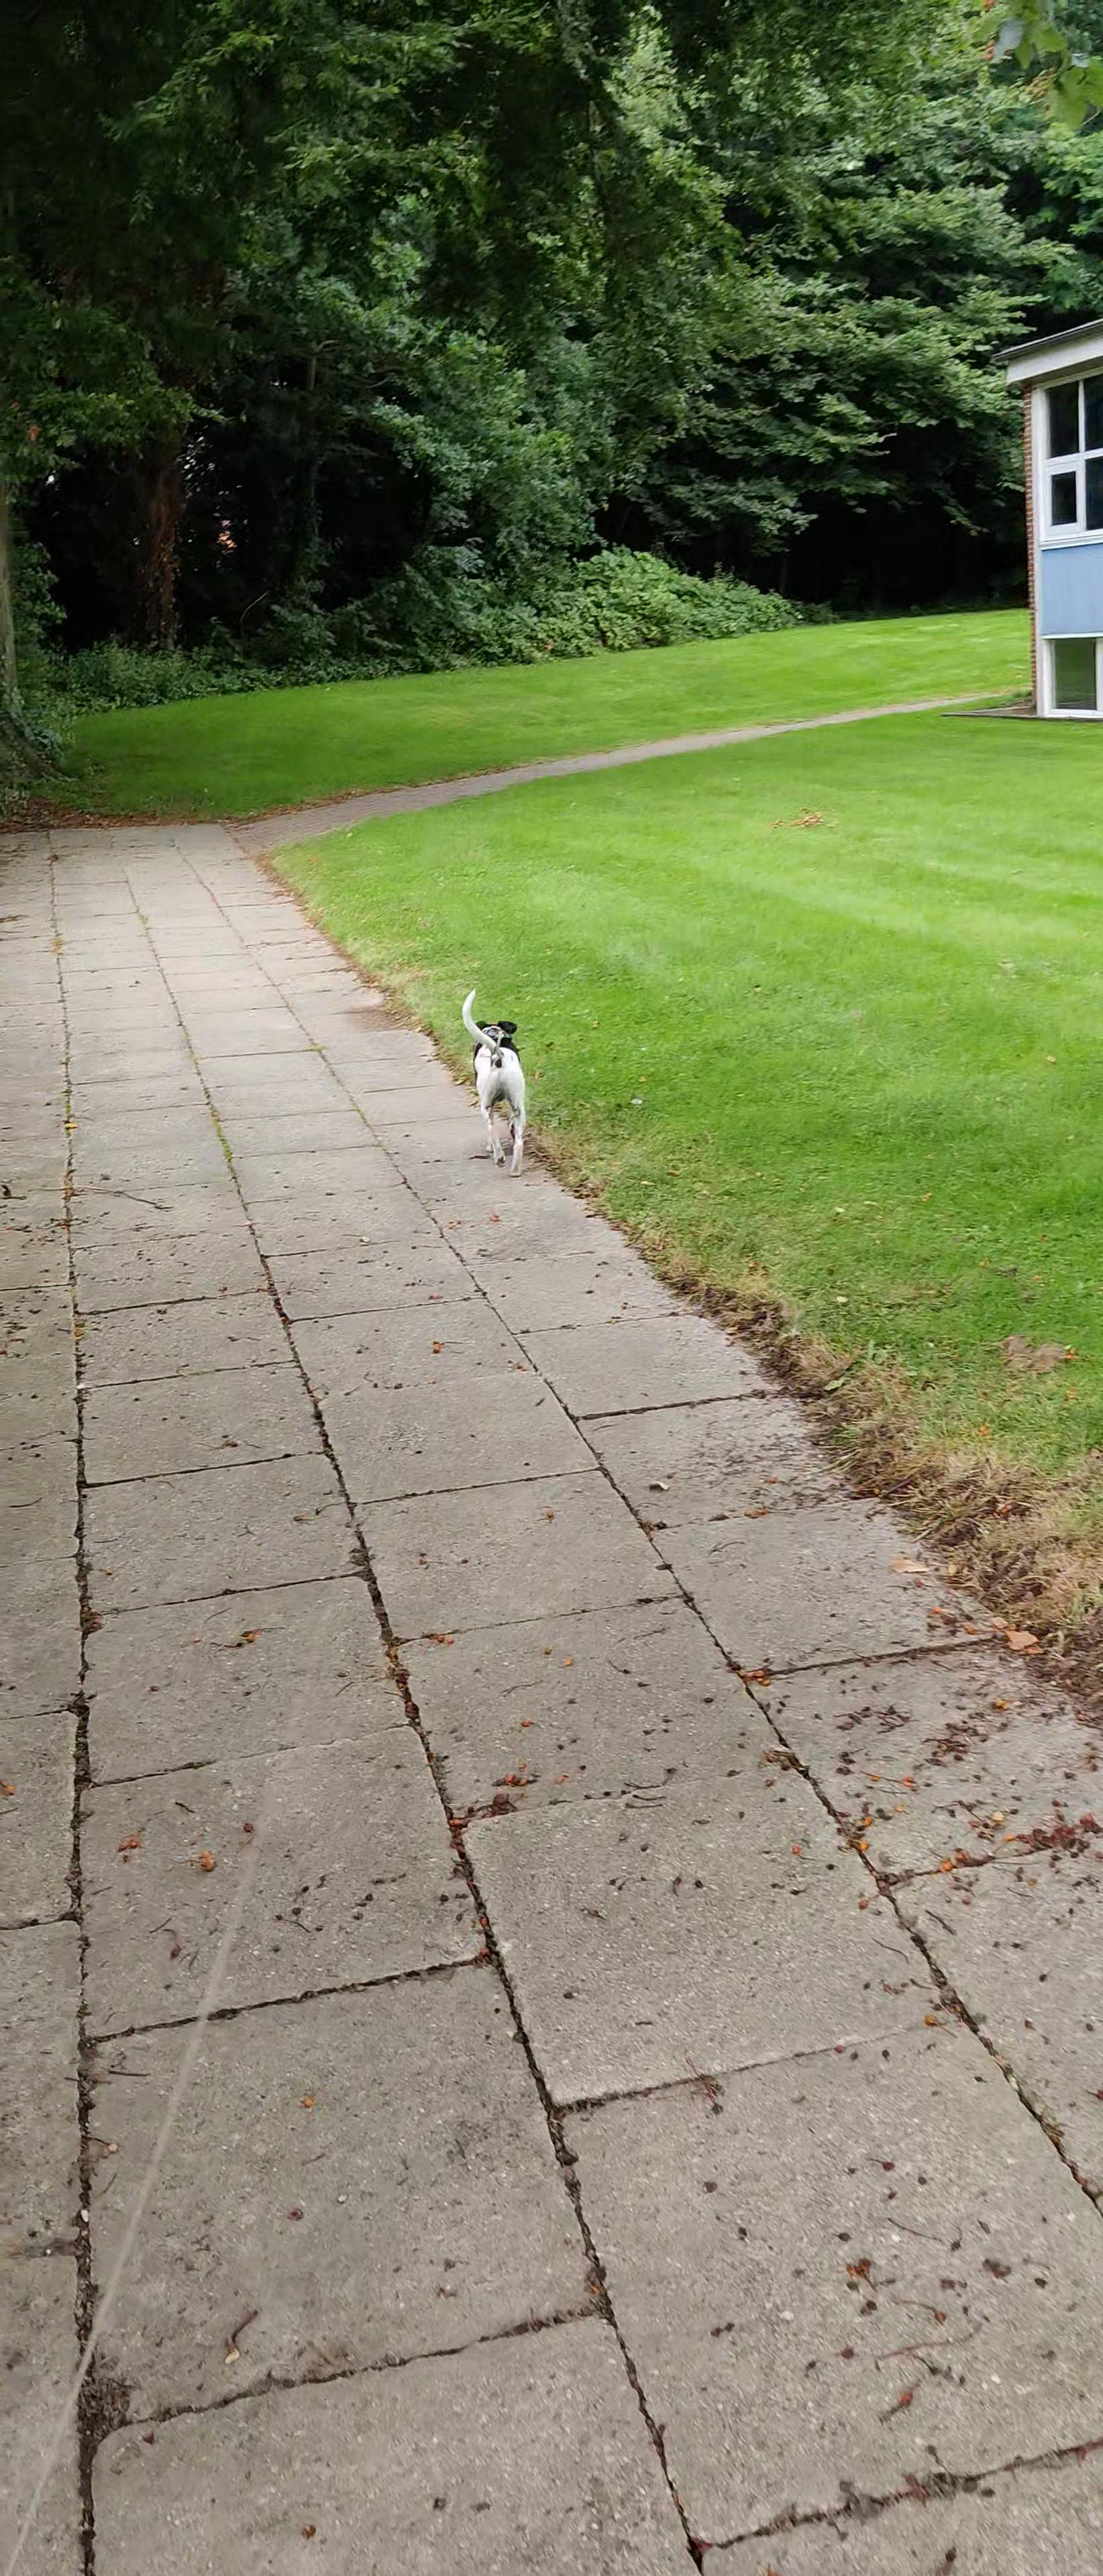Dog: (459, 986, 538, 1178)
